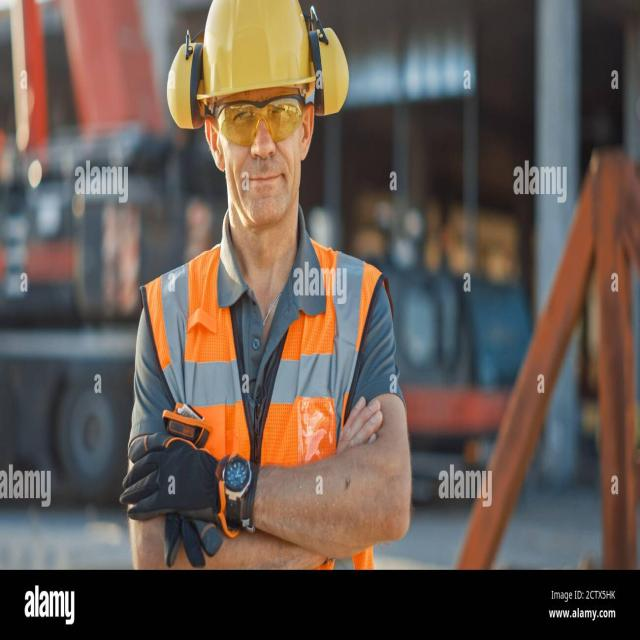goggles: (202, 90, 315, 153)
helmet: (194, 0, 321, 105)
vest: (135, 233, 401, 569)
